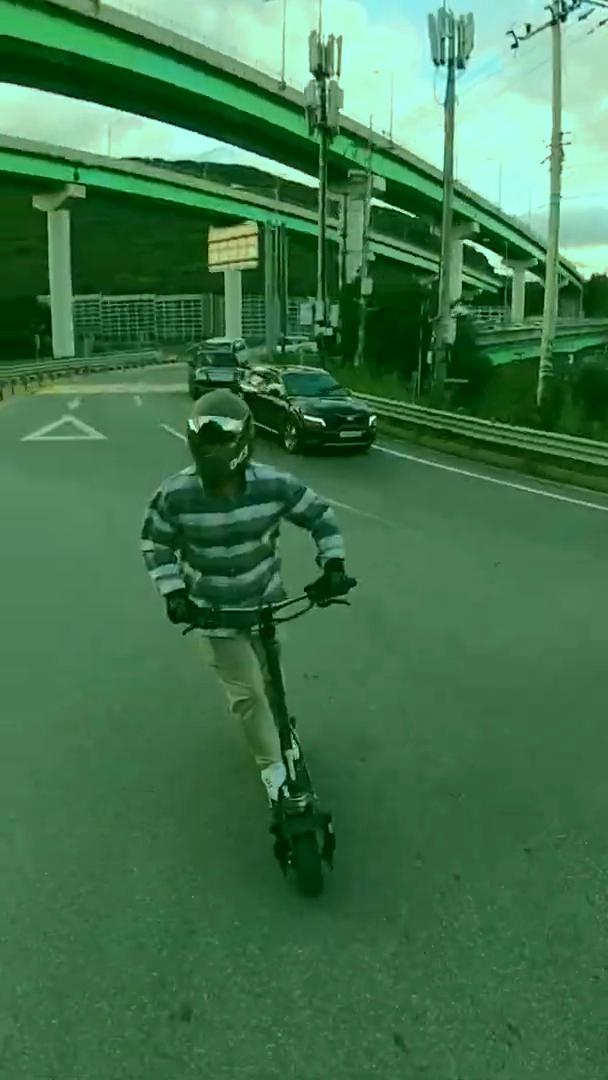helmet: (135, 385, 357, 897)
